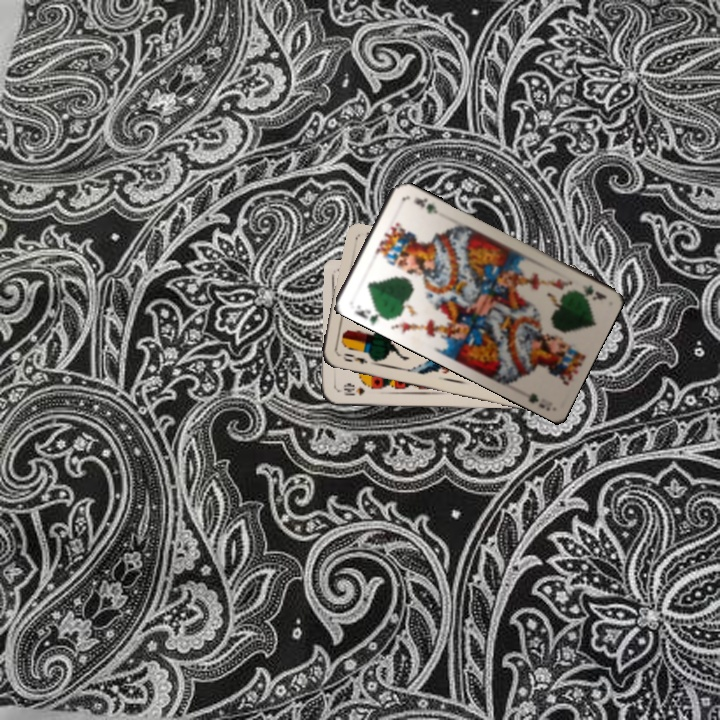EO: (339, 349, 370, 367)
GK: (350, 301, 387, 326), (578, 281, 608, 303)
S10: (334, 382, 367, 398)
